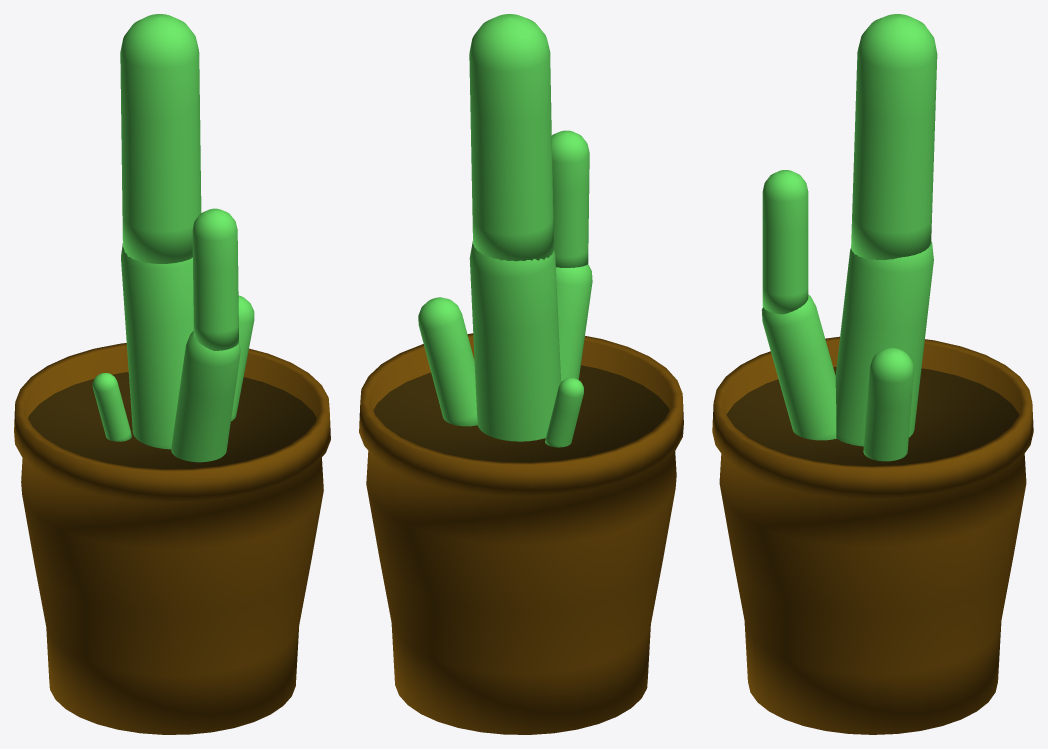
File: plant-00002.glb
3 renders of one model, left to right at view 1: azimuth 30°, elevation 25°; view 2: azimuth 150°, elevation 25°; view 3: azimuth 270°, elevation 25°, orthographic. The views are drawn at different scales.
Visible parts, largest first — view 1: Cylinder.003, Cylinder.008, Cylinder.005, Cylinder.007, Cylinder.006, Cylinder.010, Cylinder.009; view 2: Cylinder.003, Cylinder.008, Cylinder.005, Cylinder.009, Cylinder.006, Cylinder.007, Cylinder.010; view 3: Cylinder.003, Cylinder.008, Cylinder.005, Cylinder.007, Cylinder.006, Cylinder.009.
Boxes of the visible parts, left/top/right/bottom form: Cylinder.003: left=14, top=343, right=330, bottom=734; Cylinder.008: left=120, top=14, right=201, bottom=263; Cylinder.005: left=121, top=243, right=193, bottom=449; Cylinder.007: left=171, top=331, right=240, bottom=462; Cylinder.006: left=192, top=208, right=238, bottom=350; Cylinder.010: left=92, top=373, right=131, bottom=441; Cylinder.009: left=231, top=295, right=254, bottom=421; Cylinder.003: left=359, top=333, right=683, bottom=734; Cylinder.008: left=469, top=14, right=553, bottom=261; Cylinder.005: left=469, top=241, right=561, bottom=441; Cylinder.009: left=418, top=297, right=477, bottom=426; Cylinder.006: left=551, top=130, right=589, bottom=267; Cylinder.007: left=556, top=264, right=592, bottom=381; Cylinder.010: left=545, top=377, right=583, bottom=447; Cylinder.003: left=712, top=336, right=1033, bottom=734; Cylinder.008: left=851, top=14, right=937, bottom=260; Cylinder.005: left=835, top=241, right=933, bottom=446; Cylinder.007: left=761, top=294, right=836, bottom=440; Cylinder.006: left=762, top=170, right=808, bottom=314; Cylinder.009: left=863, top=347, right=913, bottom=461.
Bounding box in the file's own units: 0.3018 × 0.6879 × 0.3018.
